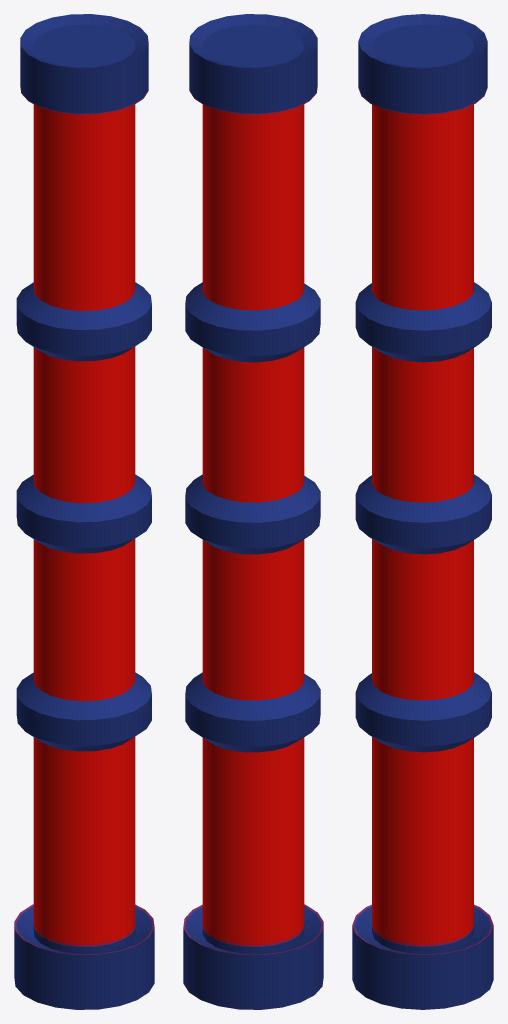
Rendered from Lab Buizen model 5.fbx.
3 renders of one model, left to right at view 1: azimuth 30°, elevation 25°; view 2: azimuth 150°, elevation 25°; view 3: azimuth 270°, elevation 25°, orthographic.
Visible parts, largest first — view 1: pTorus12; view 2: pTorus12; view 3: pTorus12.
Boxes of the visible parts, x1,y1,x2,y2 form: pTorus12: (14, 14, 154, 1009); pTorus12: (183, 14, 323, 1009); pTorus12: (352, 14, 493, 1009).
Size of the model in its own units: 27.61 by 203 by 27.61.
1 material, 1 textured.
